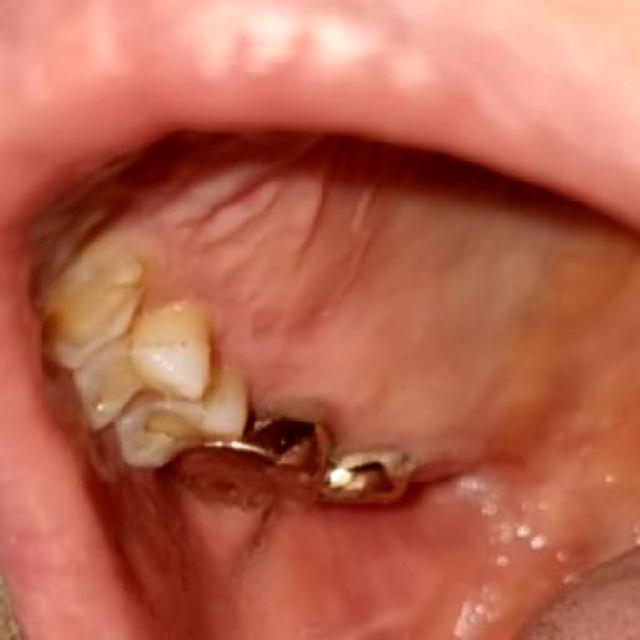Plaque: (246, 369, 421, 453), (137, 420, 219, 451)
